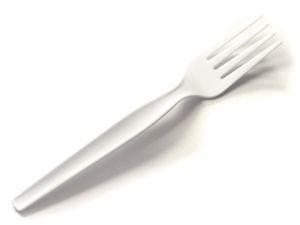Fork: (12, 17, 283, 212)
